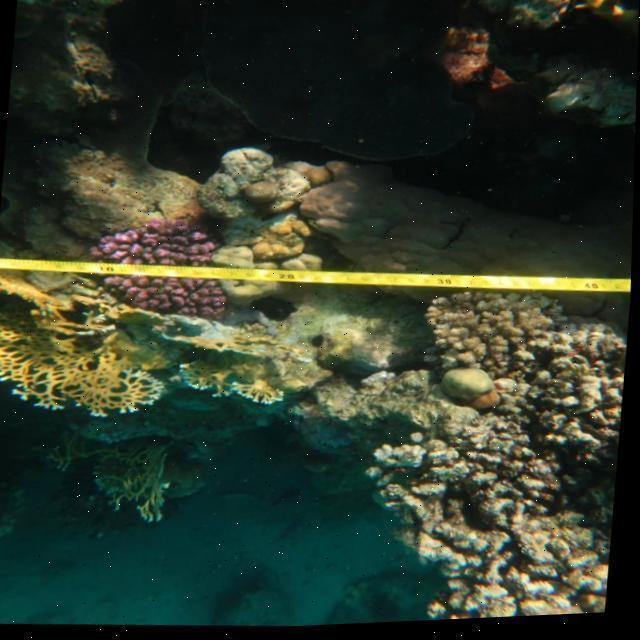Healthy Coral: (0, 264, 183, 427), (79, 214, 239, 327), (174, 348, 302, 413)
